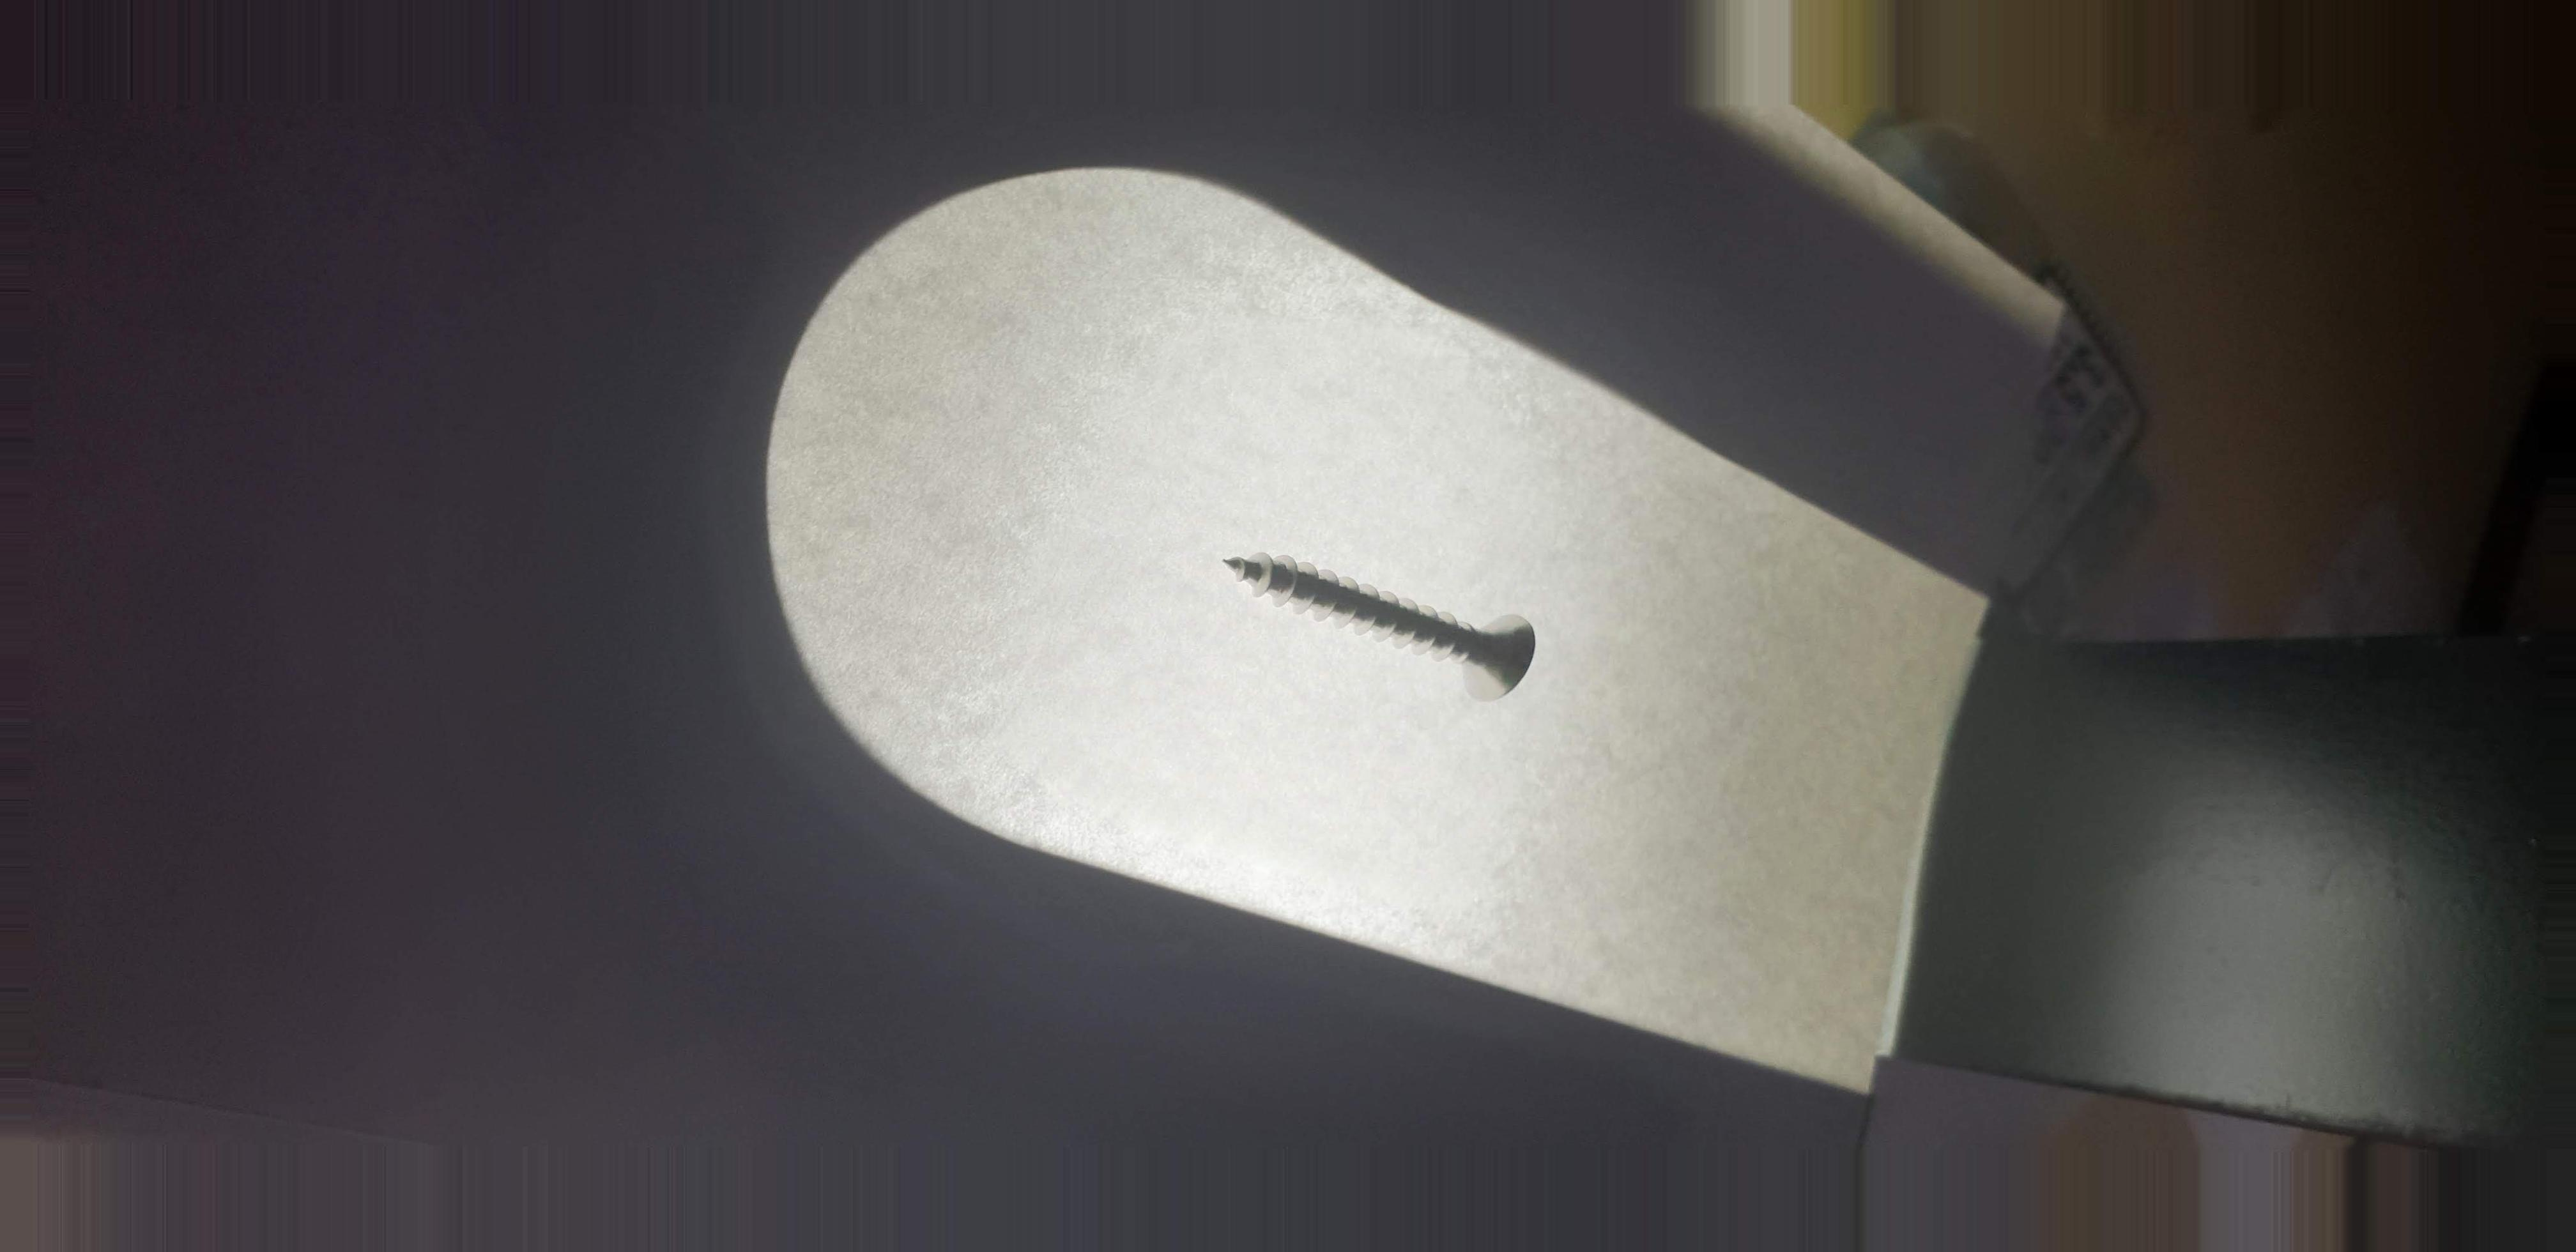S004: (1168, 506, 1617, 749)
